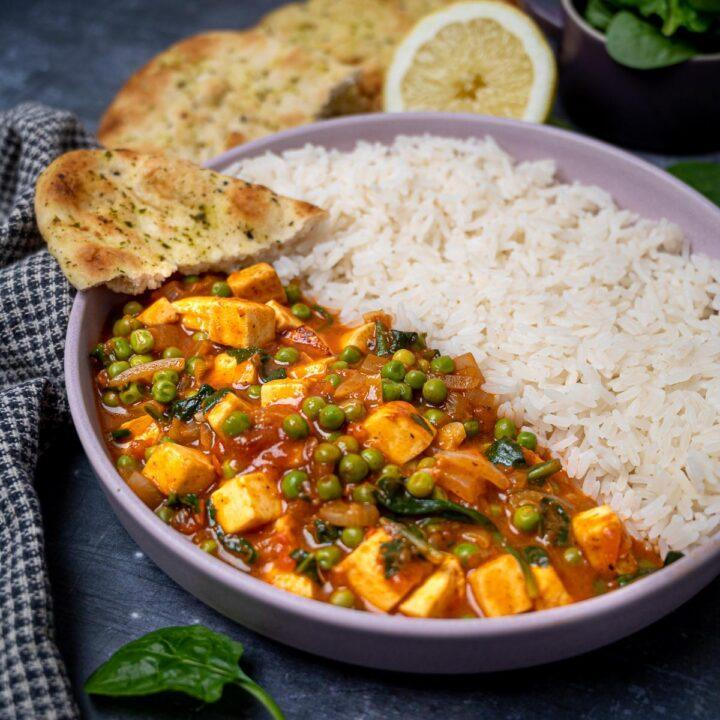rice: (240, 141, 713, 567)
